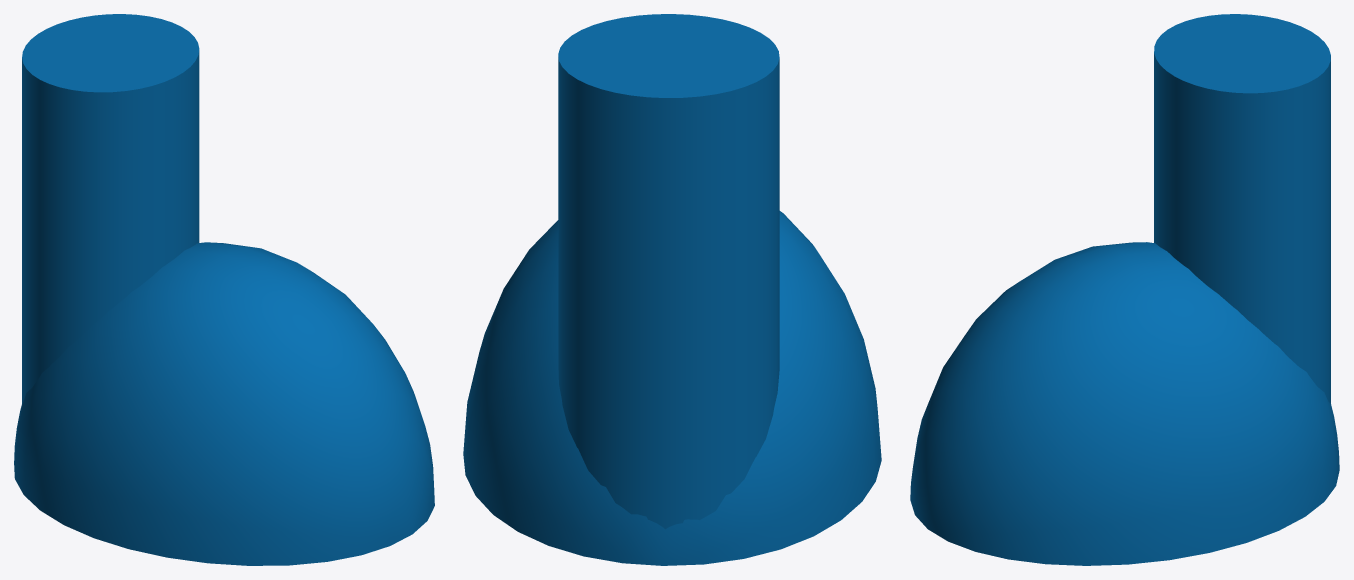
The model's file is pataI_B.obj.
The picture shows the model from 3 angles, left to right: view 1: azimuth 30°, elevation 25°; view 2: azimuth 150°, elevation 25°; view 3: azimuth 270°, elevation 25°; orthographic projection. The views are drawn at different scales.
Parts seen in each view (by area): view 1: Sphere003; view 2: Sphere003; view 3: Sphere003.
Part boxes in pixels (x1=…): Sphere003: x1=14, y1=14, x2=434, y2=565; Sphere003: x1=463, y1=14, x2=881, y2=565; Sphere003: x1=910, y1=14, x2=1339, y2=565.
Bounding box in the file's own units: 1.91 × 2.23 × 2.14.
